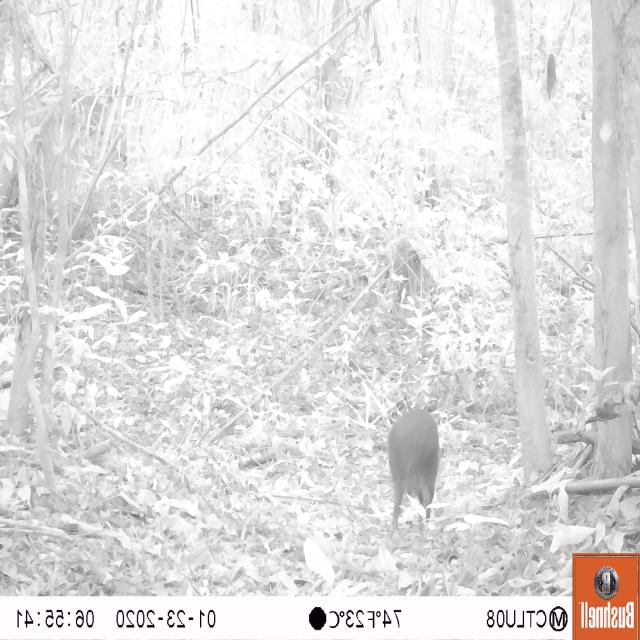Black Agouti: (384, 404, 446, 537)
